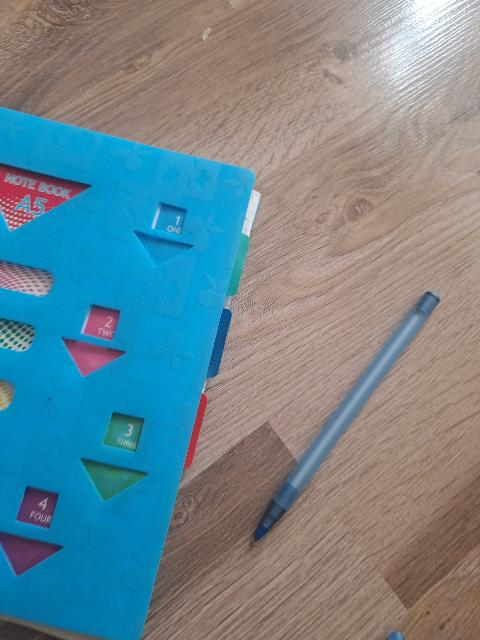writing_tool: (240, 290, 443, 546)
